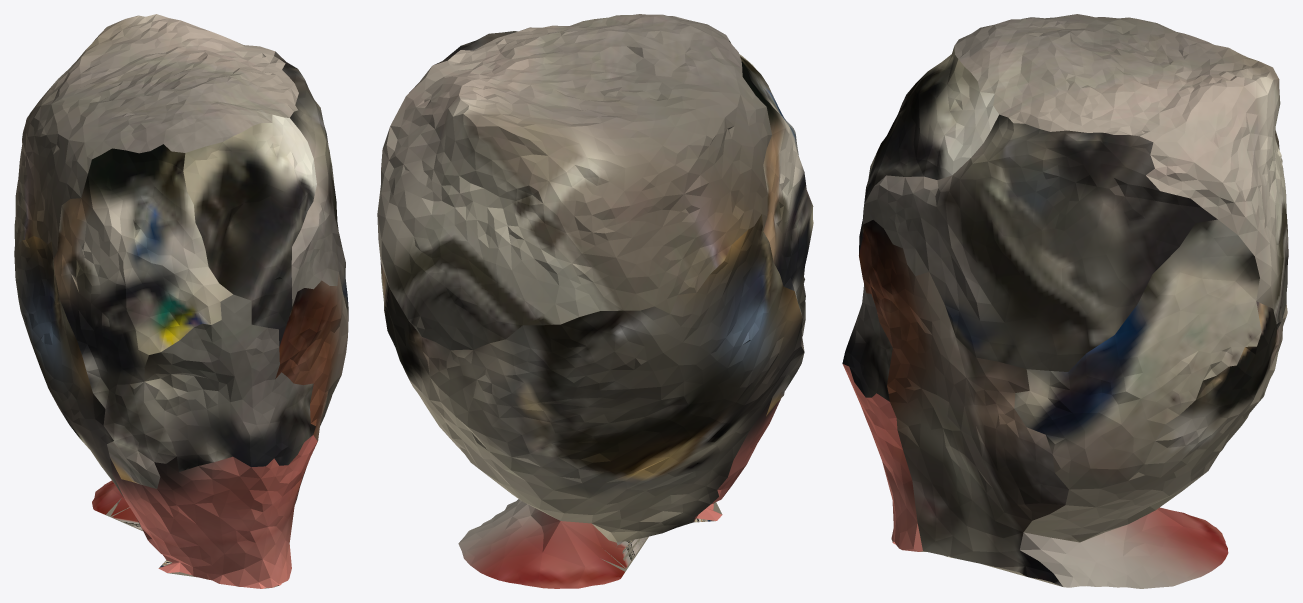
The model's file is Deadpool.fbx.
The picture shows the model from 3 angles, left to right: view 1: azimuth 30°, elevation 25°; view 2: azimuth 150°, elevation 25°; view 3: azimuth 270°, elevation 25°; orthographic projection. The views are drawn at different scales.
Parts seen in each view (by area): view 1: textured_output; view 2: textured_output; view 3: textured_output.
Part boxes in pixels (x1,y1,x2,y2): textured_output: [14, 14, 348, 588]; textured_output: [377, 14, 813, 588]; textured_output: [842, 14, 1288, 588].
Bounding box in the file's own units: 9.06 × 13.27 × 10.89.
